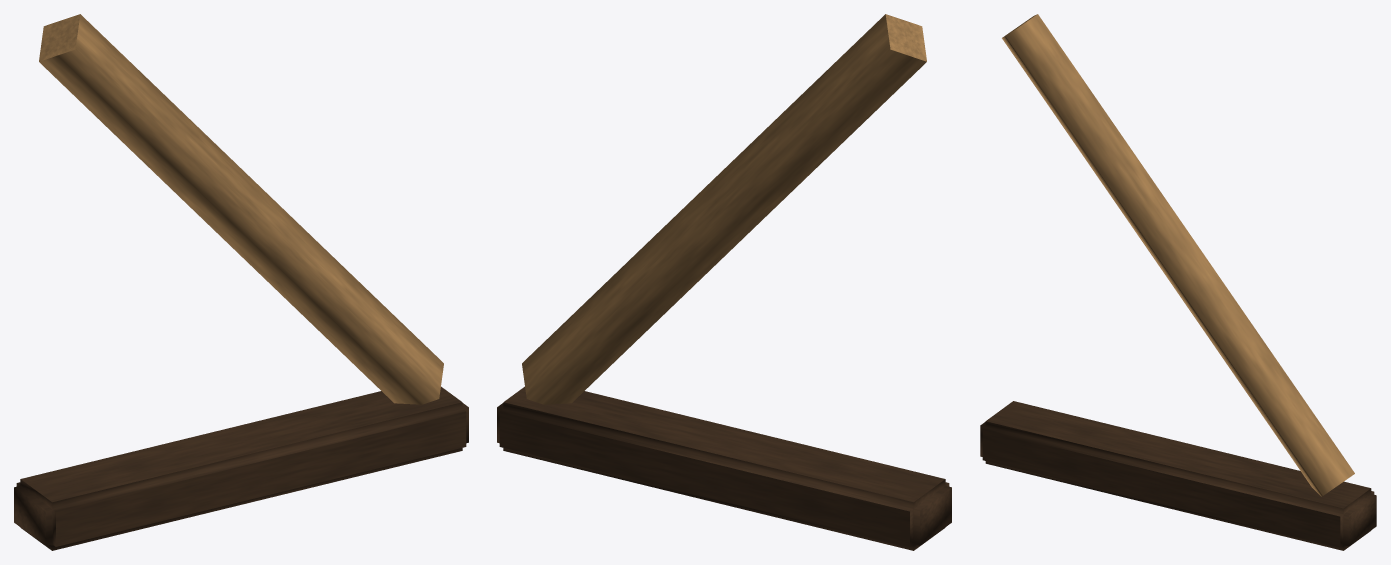
The model's file is timber-brace-3.fbx.
The picture shows the model from 3 angles, left to right: view 1: azimuth 30°, elevation 25°; view 2: azimuth 150°, elevation 25°; view 3: azimuth 330°, elevation 25°; orthographic projection. The views are drawn at different scales.
Parts seen in each view (by area): view 1: timber-brace-3__Geometry; view 2: timber-brace-3__Geometry; view 3: timber-brace-3__Geometry.
Boxes of the visible parts, bbox=[...] form: timber-brace-3__Geometry: bbox=[14, 14, 468, 550]; timber-brace-3__Geometry: bbox=[497, 14, 951, 550]; timber-brace-3__Geometry: bbox=[980, 14, 1376, 550].
Bounding box in the file's own units: 1 × 1.16 × 0.16.
1 material, 1 textured.
